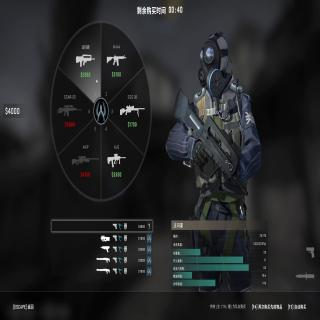CT-Head: (196, 31, 228, 94)
